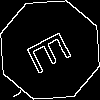E: (25, 25, 82, 76)
